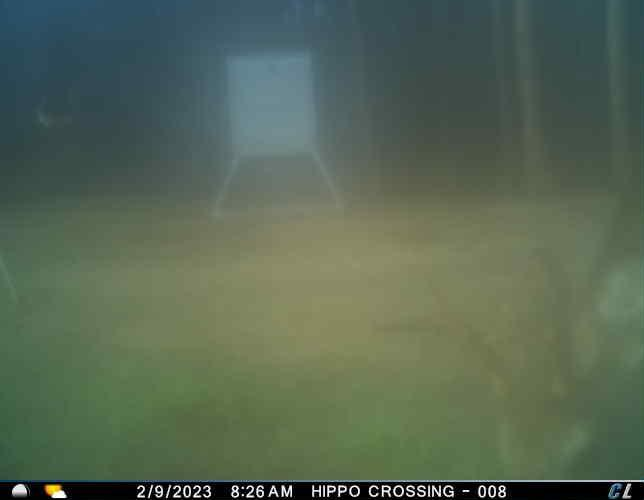Deer: (381, 142, 644, 480)
